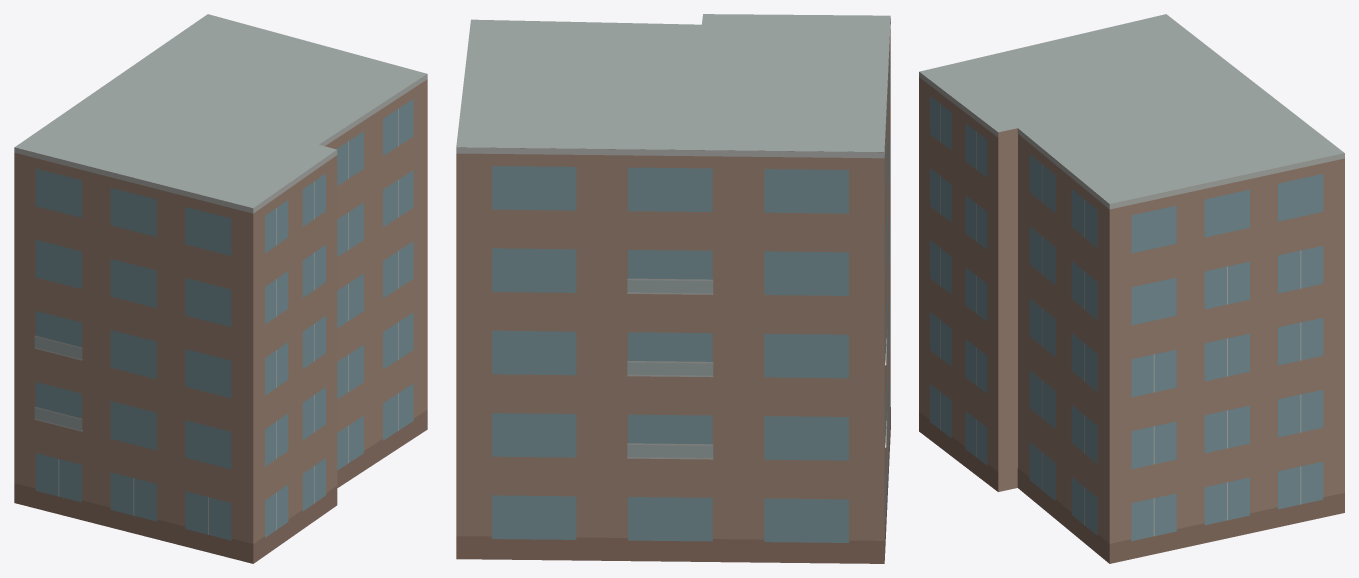
Rendered from survey-upis-32981442.glb.
The picture shows the model from 3 angles, left to right: view 1: azimuth 30°, elevation 25°; view 2: azimuth 150°, elevation 25°; view 3: azimuth 270°, elevation 25°; orthographic projection. The views are drawn at different scales.
Visible parts, largest first — view 1: survey-upis-32981442.tmp; view 2: survey-upis-32981442.tmp; view 3: survey-upis-32981442.tmp.
Boxes of the visible parts, bbox=[...] form: survey-upis-32981442.tmp: bbox=[14, 14, 427, 563]; survey-upis-32981442.tmp: bbox=[456, 14, 890, 563]; survey-upis-32981442.tmp: bbox=[919, 14, 1344, 563].
Bounding box in the file's own units: 18.48 × 16.3 × 17.49.
